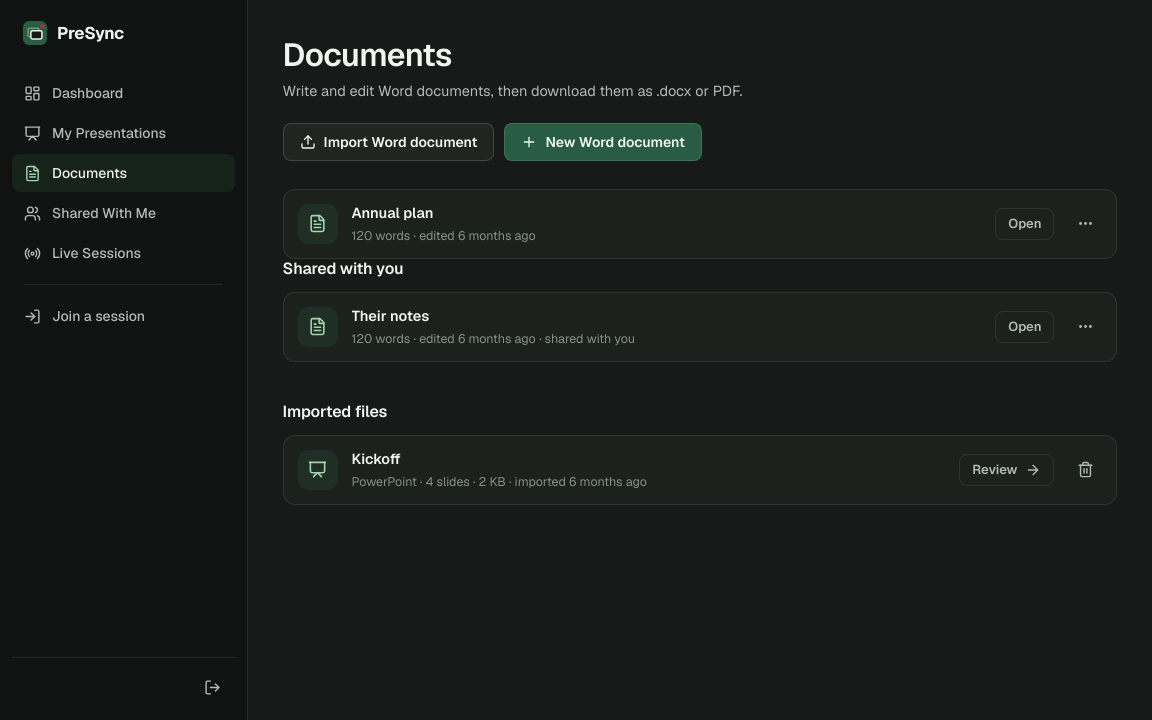
Test: DocumentsPage › confirms before deleting, and only owners can delete
This screenshot has width=1152, height=720.
Check: the list named "Word documents" is shown, box [282,189,1117,259]
Click the button named "Actions for Their notes".
click(1086, 327)  # box [1068,310,1102,344]
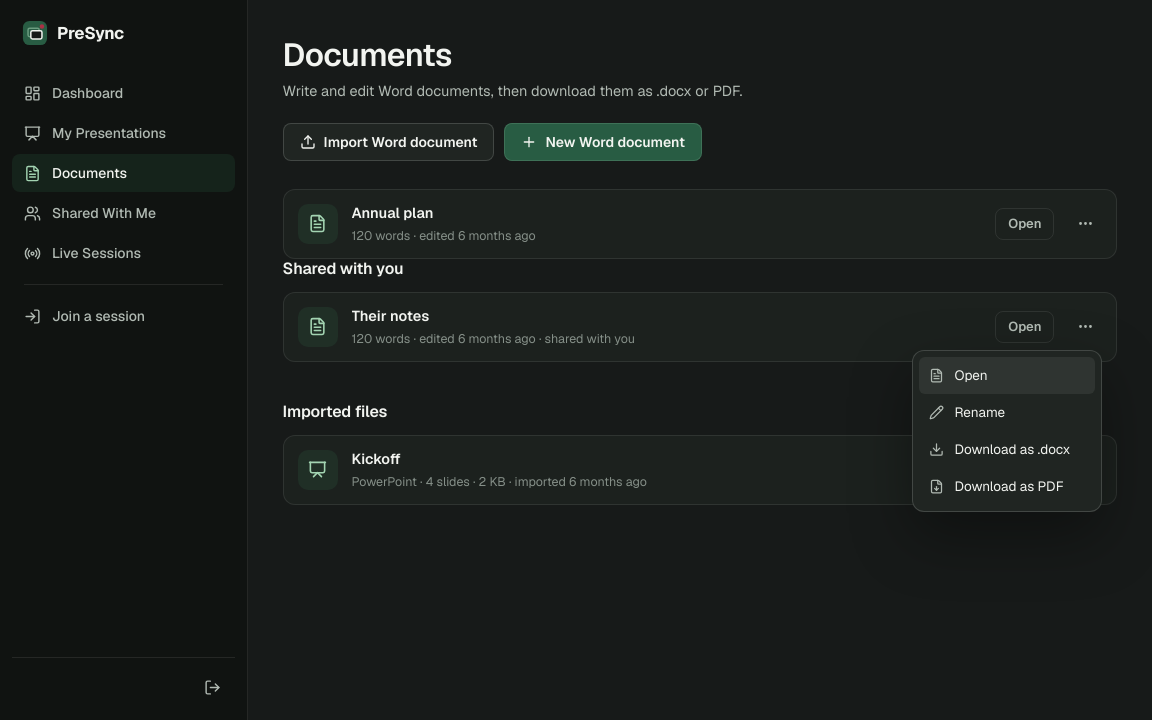
Check: the menu item "Delete" is not shown
Press Escape
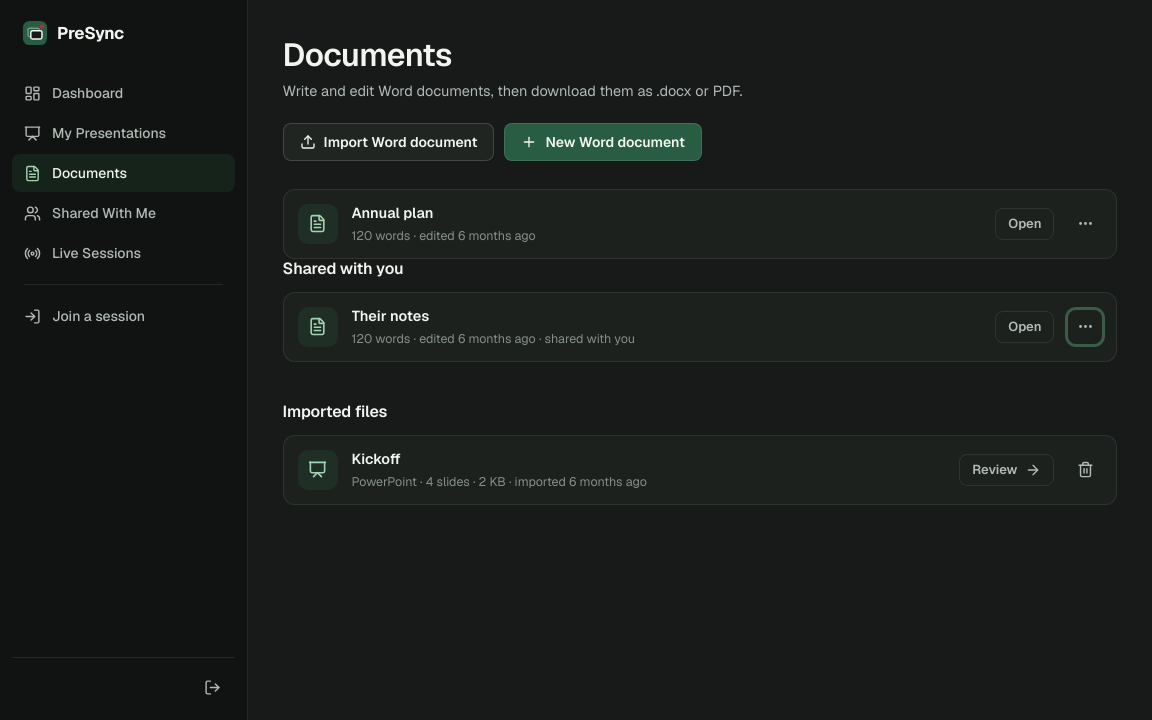
Click the button named "Actions for Annual plan".
click(1086, 224)  # box [1068,207,1102,241]
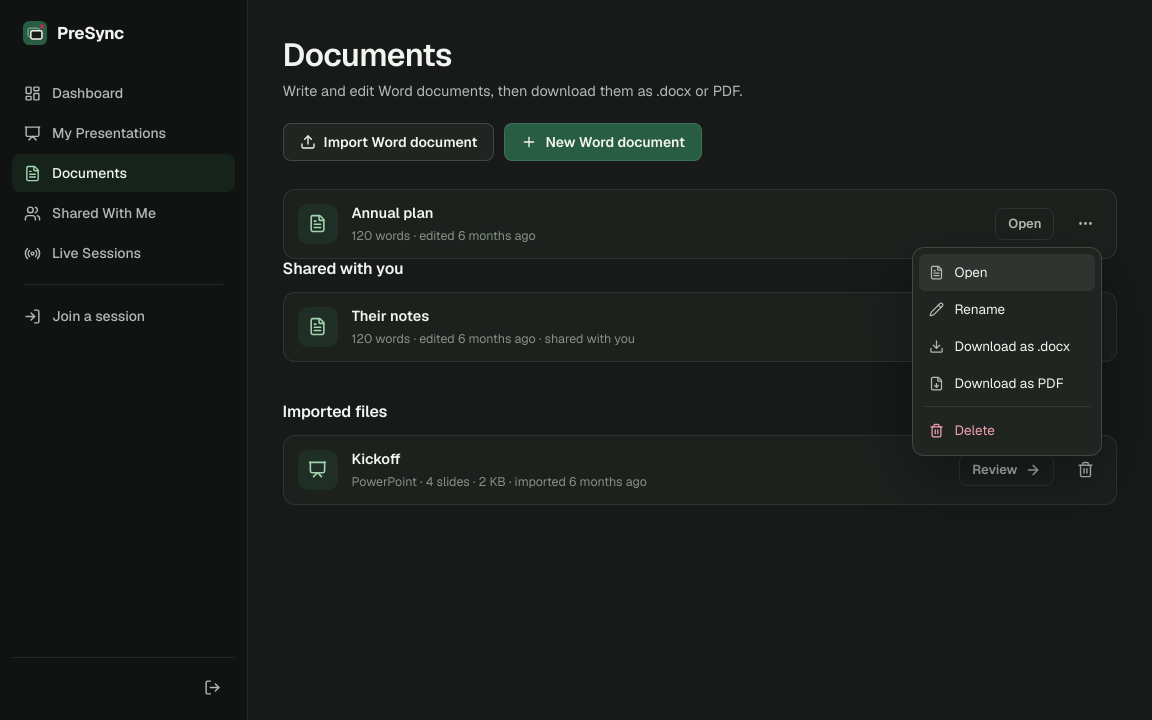
Click the menu item "Delete".
click(1008, 431)  # box [920,412,1096,449]
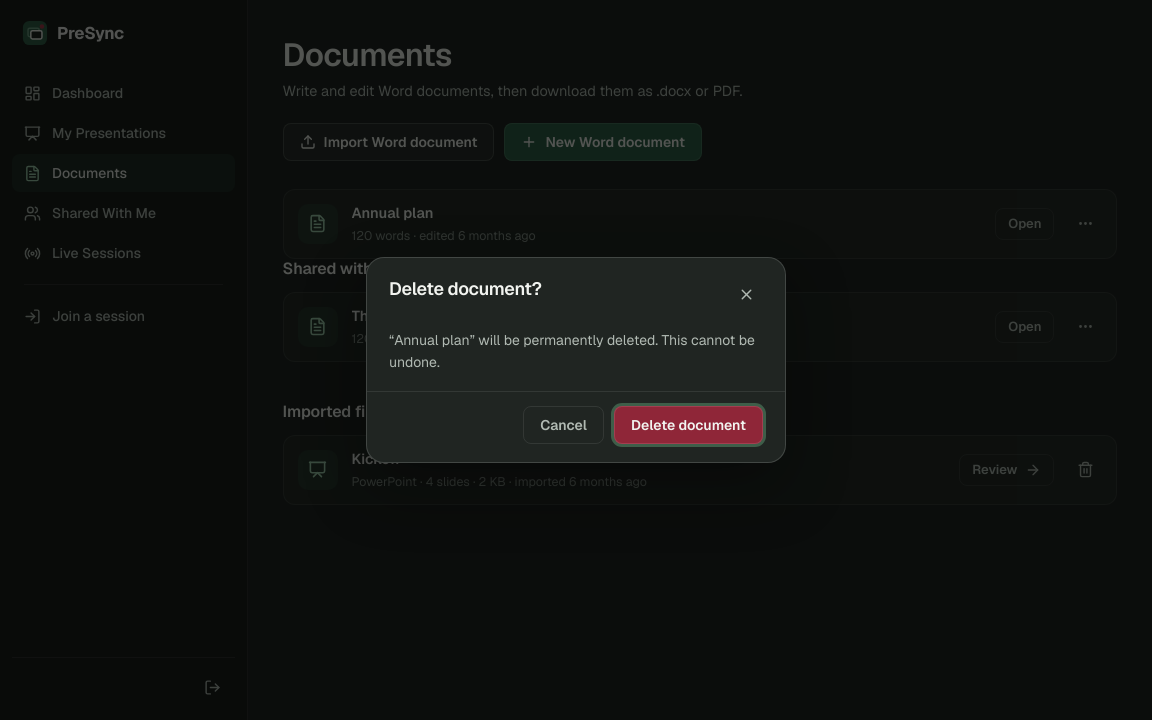
Click the button "Delete document".
click(688, 425)  # box [614,406,763,444]
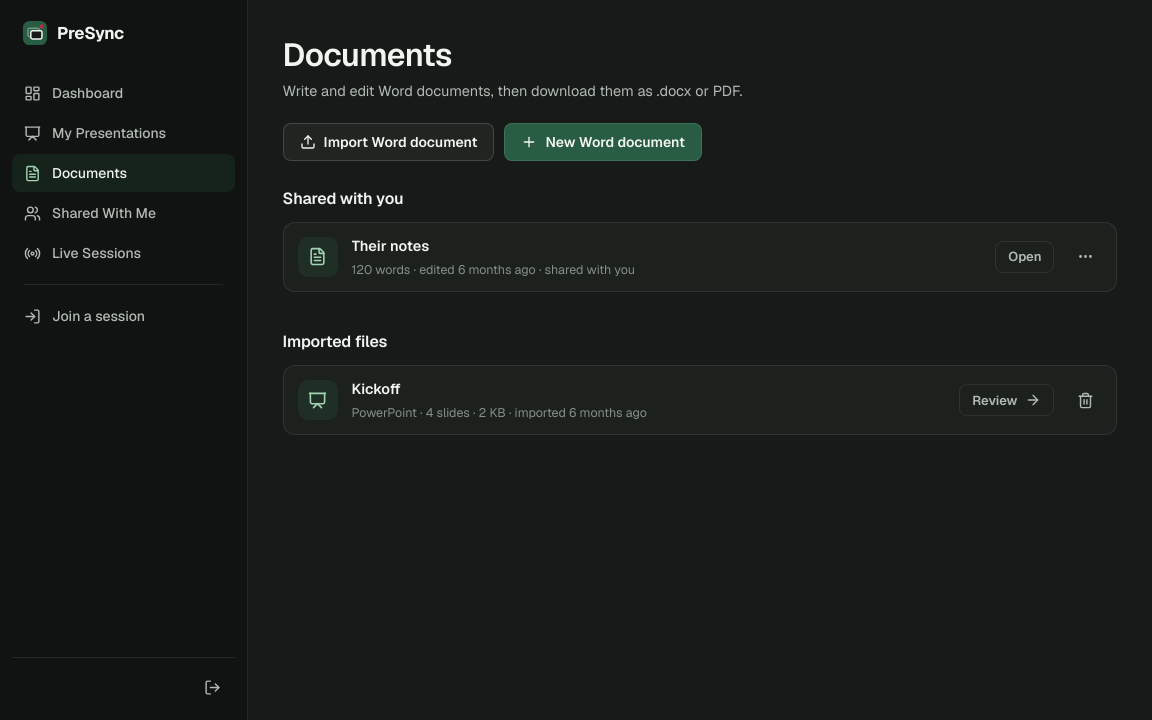
Check: the link "Annual plan" is gone
